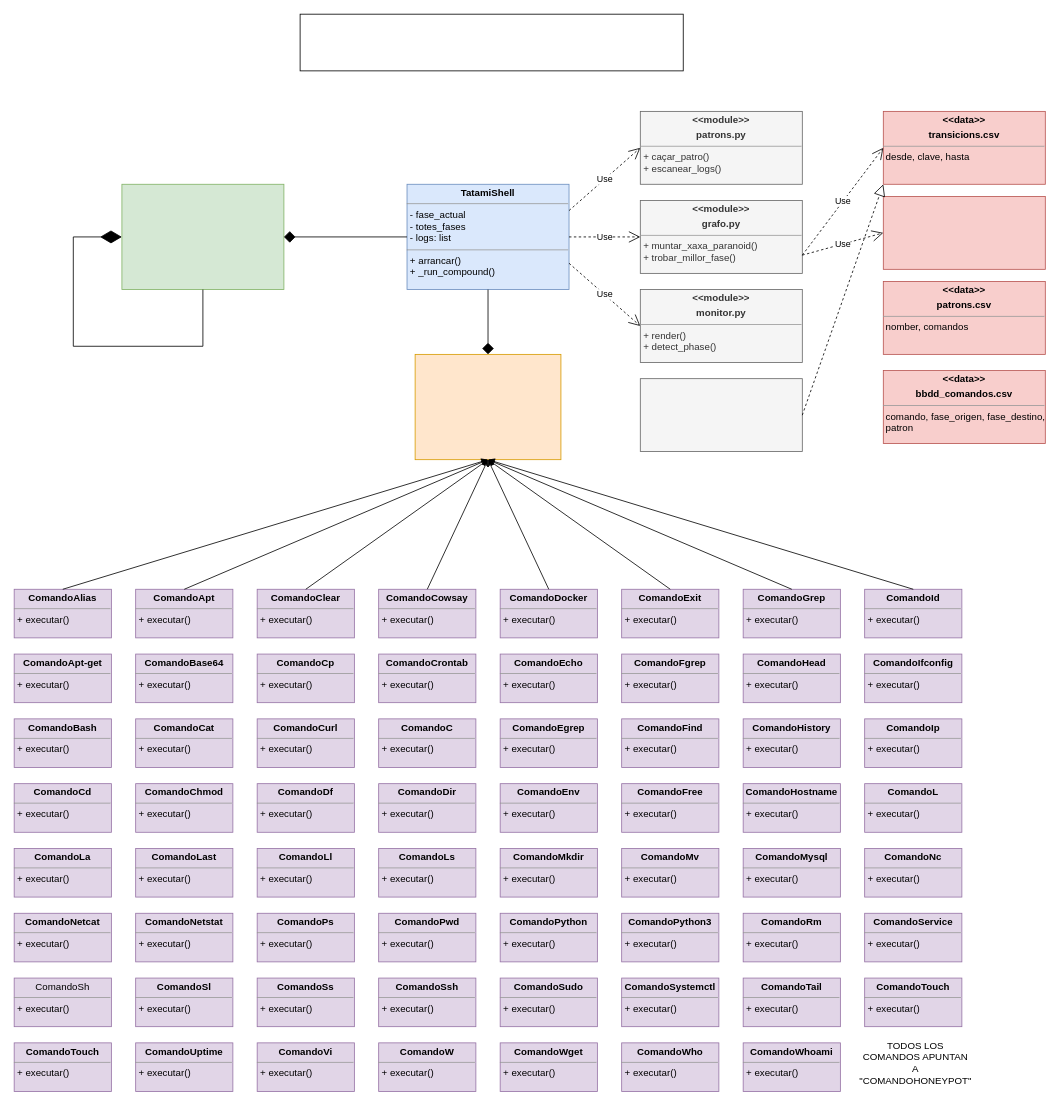
Image size: 1059x1106. Some labels were removed from this diagram. The shapes that lost their labels are listed below. From the top down, each one's centre as x and y in pixels, then its label:
(491,42): Diagrama UML - Tatami Honeypot
(202,236): NodoFase - nom: str - risc: int - rutes: dict + on_vaig()
(963,232): <<data>> fases.csv id, nombre, riesgo
(487,407): ComandoHoneypot <<abstract>> # args: list # cwd: str # _stdin: str + executar()
(720,415): <<module>> enriquecedor.py + enriquecer() + _leer_bbdd()
